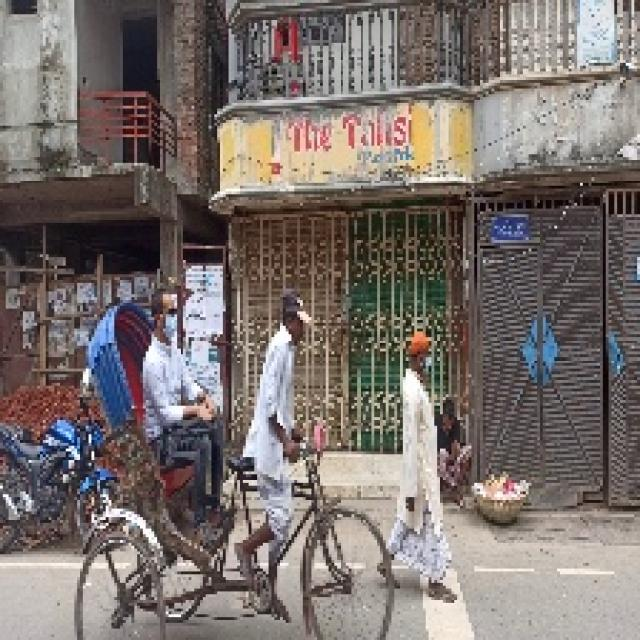bike: (2, 382, 114, 544)
rickshaw: (73, 295, 397, 626)
